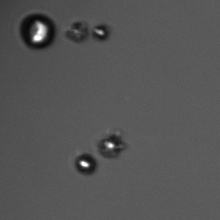Dead Cell: (60, 14, 94, 48)
Living Cell: (16, 9, 59, 56), (95, 123, 128, 163), (69, 143, 102, 183), (88, 16, 120, 49)
